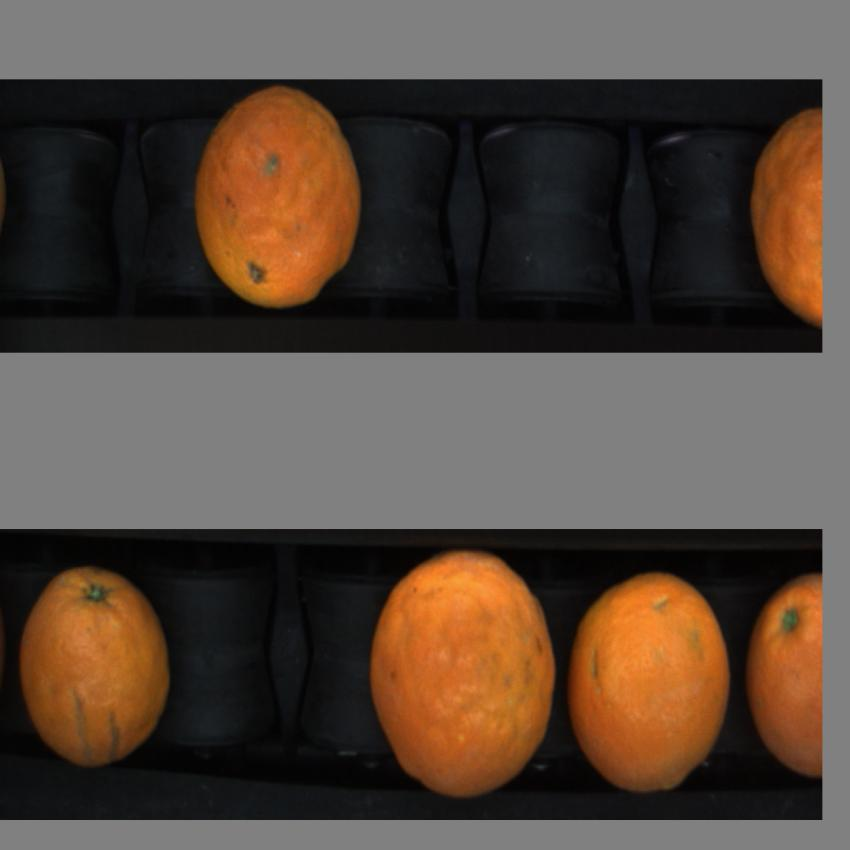Buen estado: (365, 543, 557, 811), (565, 558, 733, 796), (18, 562, 180, 777), (742, 567, 822, 785)
Mal estado: (190, 83, 364, 315), (746, 98, 824, 332)
